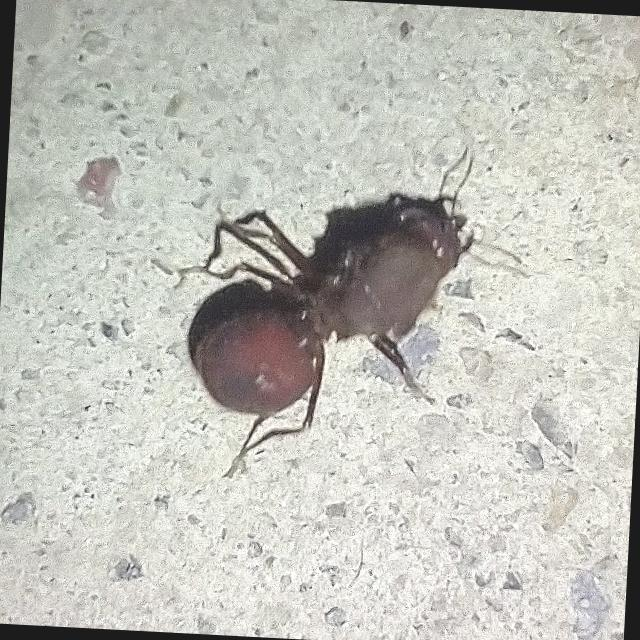Alive-Female-Dealate: (138, 138, 536, 494)
